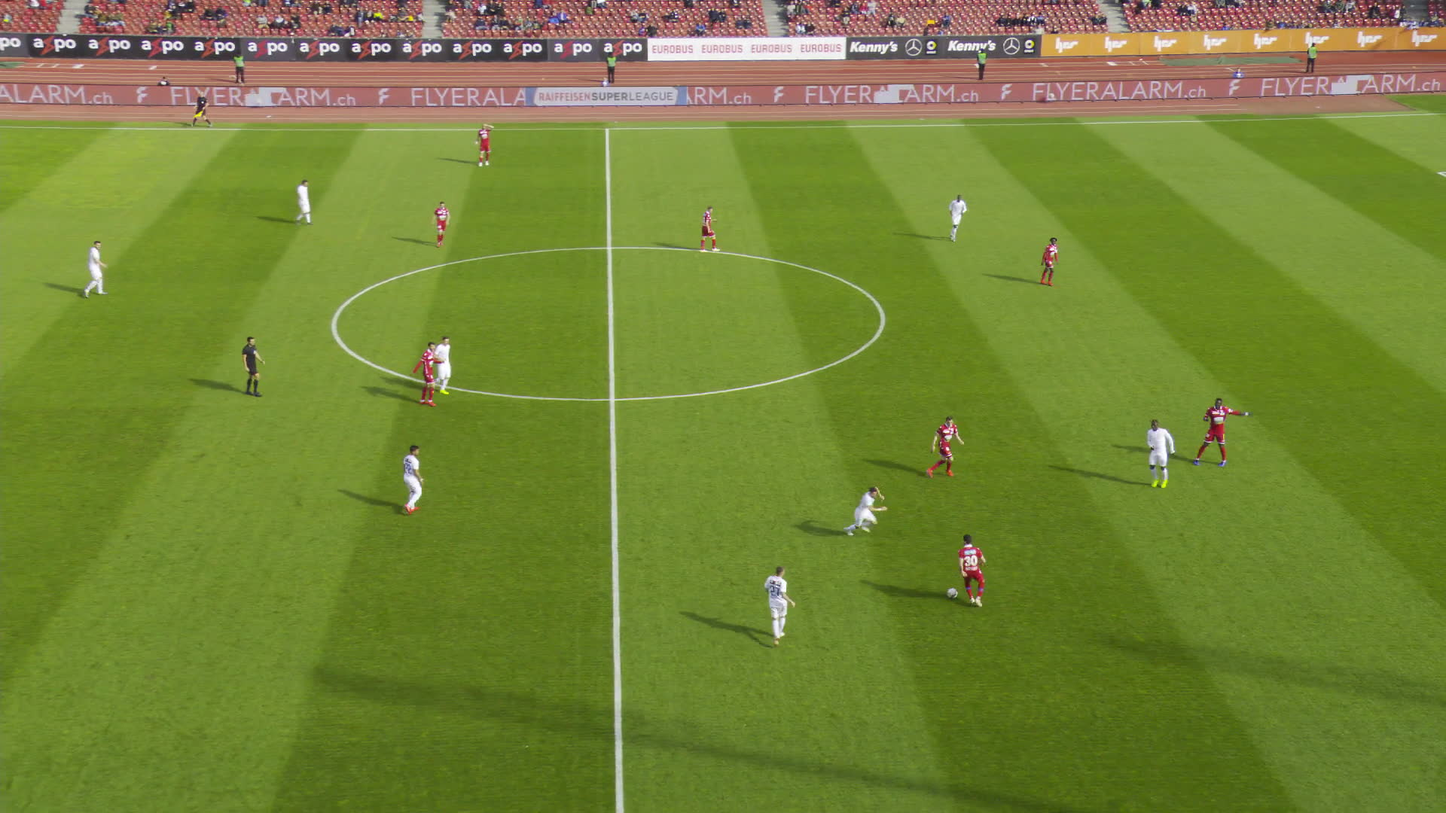ball: (946, 589, 957, 599)
player: (1195, 397, 1252, 466), (764, 566, 797, 647), (957, 534, 989, 607), (926, 416, 961, 479), (1146, 420, 1176, 490), (847, 486, 886, 538), (413, 341, 445, 404), (400, 446, 428, 517), (84, 239, 111, 297), (431, 336, 454, 394), (477, 120, 498, 166), (1040, 236, 1059, 285), (948, 195, 968, 241), (701, 206, 720, 253), (297, 178, 316, 225), (434, 200, 452, 246)
referee: (243, 334, 267, 395), (194, 90, 215, 127)
